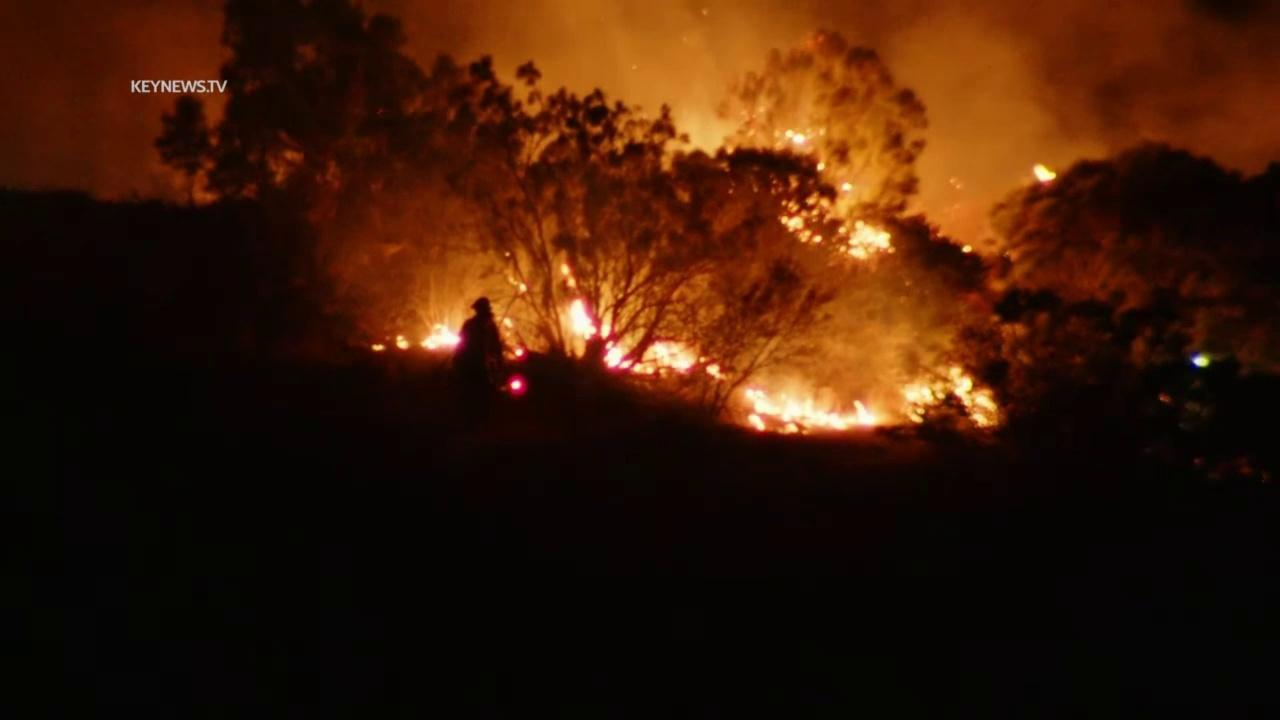fire: (741, 383, 877, 438), (900, 364, 1009, 431), (775, 217, 897, 261), (645, 338, 727, 381), (568, 297, 613, 340), (418, 323, 465, 354), (602, 341, 641, 375), (1030, 162, 1060, 190), (558, 263, 580, 288), (506, 374, 527, 399), (783, 128, 806, 149), (506, 277, 528, 296), (393, 333, 411, 352), (512, 343, 528, 363), (839, 181, 854, 194), (368, 342, 387, 351), (502, 317, 515, 330), (960, 244, 974, 256), (816, 160, 826, 172)
smoke: (0, 0, 1280, 275)
